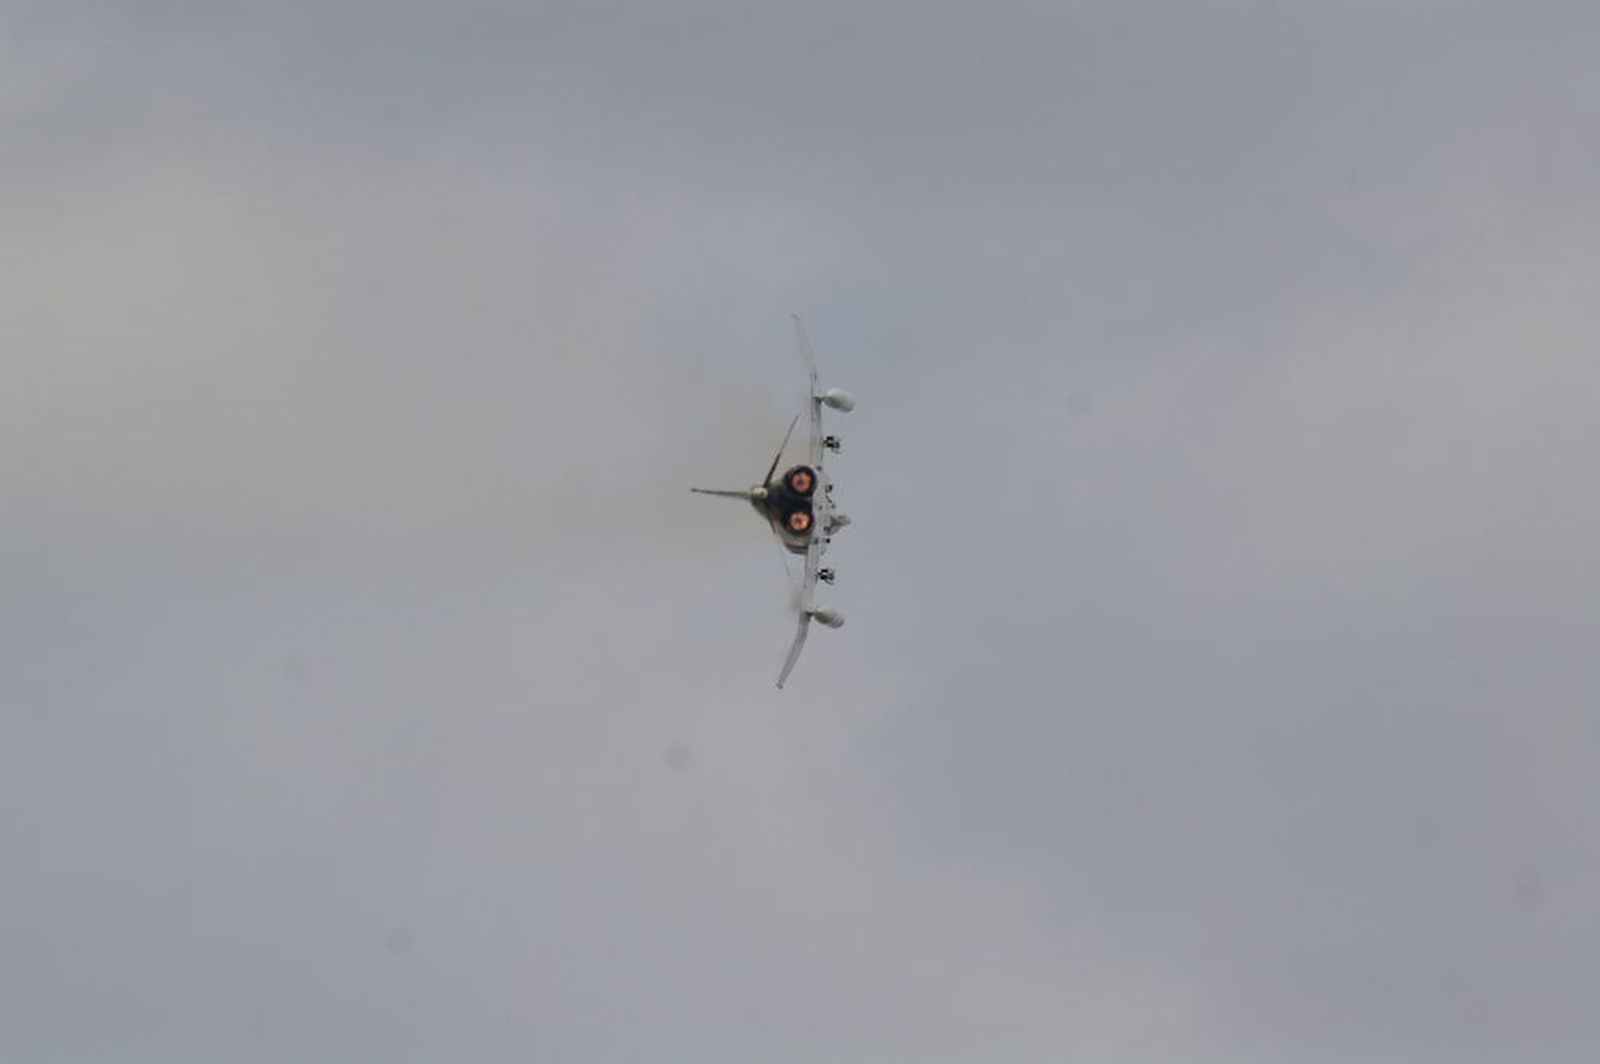F4: (688, 308, 855, 691)
